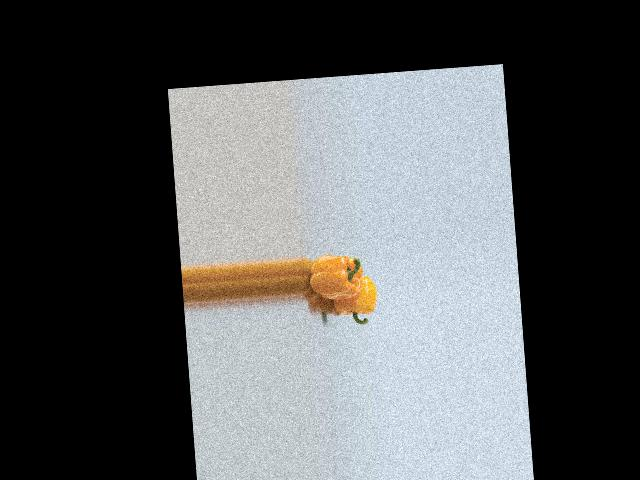bell_pepper: (323, 273, 379, 326)
